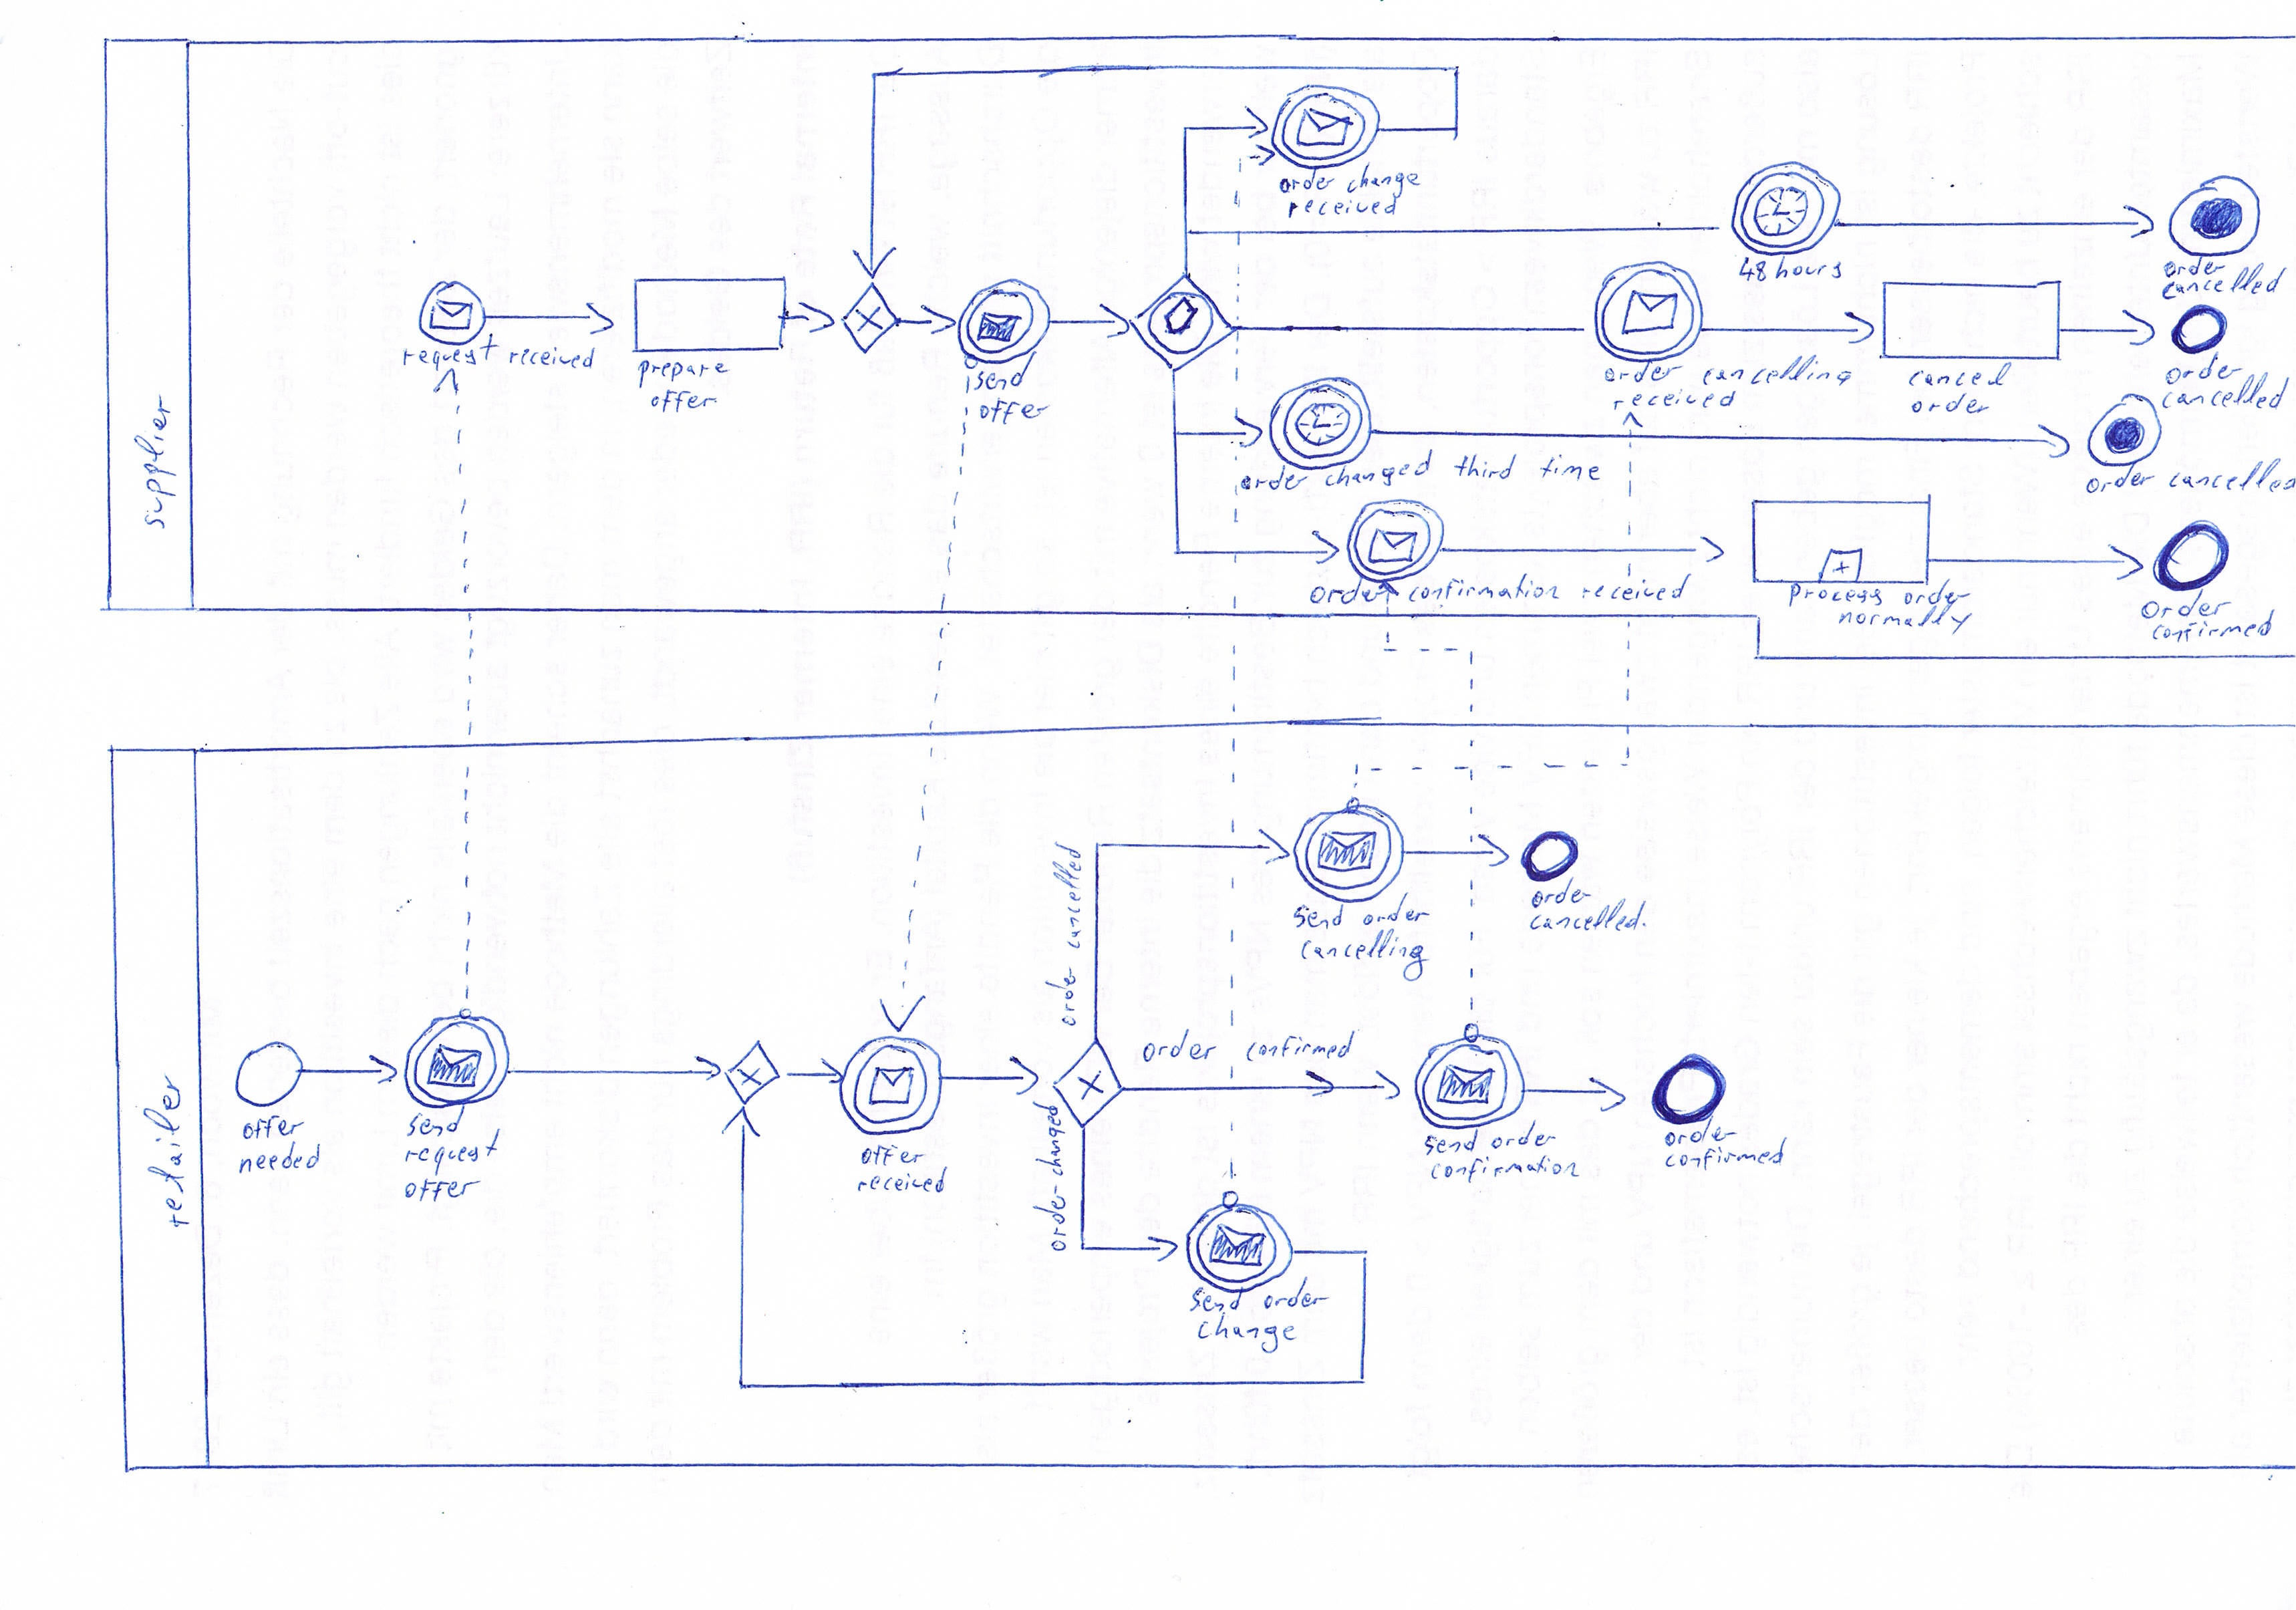48: (1739, 258, 1771, 283)
Order: (2144, 590, 2230, 623)
Send: (1289, 902, 1350, 933)
cancel: (1905, 366, 2005, 392)
cancelled: (2160, 375, 2293, 413), (2151, 267, 2293, 298), (2165, 462, 2291, 497), (1050, 844, 1085, 956)
cancelled.: (1527, 900, 1645, 931)
cancelling: (1701, 351, 1858, 387), (1293, 937, 1424, 968)
change: (1192, 1315, 1296, 1347), (1342, 166, 1420, 195)
changed: (1029, 1090, 1071, 1183), (1322, 457, 1432, 487)
confirmation: (1401, 572, 1565, 604), (1429, 1156, 1581, 1186)
confirmed: (2148, 612, 2280, 647), (1237, 1029, 1356, 1061), (1664, 1144, 1787, 1170)
hours: (1774, 260, 1841, 283)
needed: (237, 1146, 323, 1179)
normally: (1841, 609, 1968, 631)
offer: (401, 1174, 476, 1204), (646, 389, 722, 415), (237, 1113, 305, 1141), (858, 1146, 932, 1170), (979, 398, 1045, 419)
order: (1261, 1280, 1333, 1319), (1305, 577, 1385, 611), (1359, 895, 1431, 931), (1050, 961, 1085, 1033), (1036, 1188, 1073, 1256), (2165, 354, 2244, 385), (1139, 1034, 1218, 1062), (1664, 1116, 1734, 1148), (1490, 1123, 1556, 1155), (1239, 467, 1307, 497), (1910, 394, 1992, 419), (1603, 363, 1685, 385), (1528, 881, 1591, 909), (1279, 169, 1342, 197), (1900, 584, 1973, 607), (2085, 467, 2153, 492), (2160, 255, 2226, 277)
prepare: (633, 358, 728, 384)
process: (1783, 583, 1889, 609)
received: (1574, 570, 1698, 609), (1286, 194, 1404, 220), (506, 344, 602, 372), (1610, 391, 1736, 412), (855, 1170, 951, 1197)
request: (405, 1134, 502, 1167), (401, 338, 497, 366)
retailer: (141, 1074, 197, 1235)
send: (1420, 1130, 1486, 1158), (401, 1113, 457, 1143), (1190, 1287, 1237, 1320), (970, 370, 1028, 392)
supplier: (138, 394, 176, 532)
third: (1455, 454, 1523, 488)
time: (1539, 454, 1600, 483)
